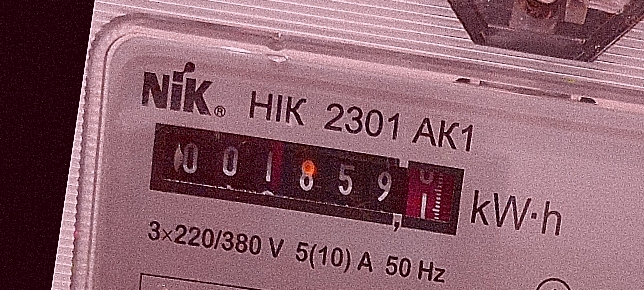0: (178, 138, 202, 176), (217, 141, 241, 177)
1: (260, 147, 277, 183), (414, 188, 431, 220)
5: (333, 159, 358, 197)
8: (294, 155, 319, 192)
9: (371, 166, 395, 203)
screen: (133, 107, 478, 246)
